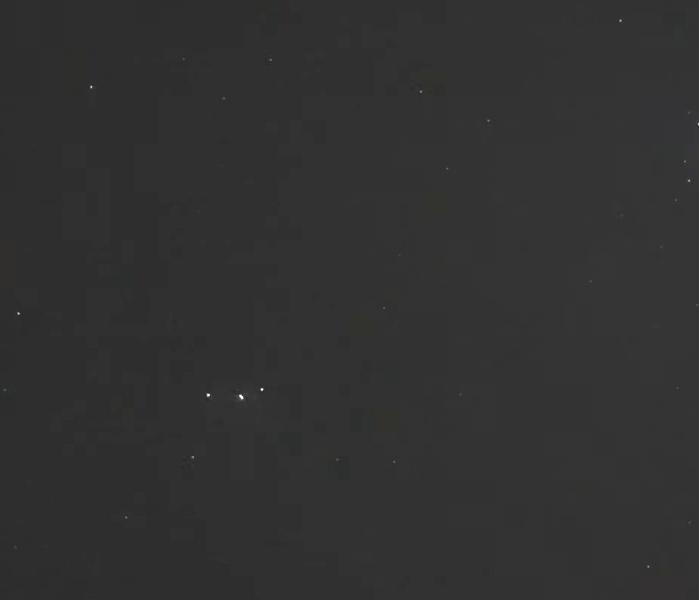Plane: (182, 357, 298, 405)
